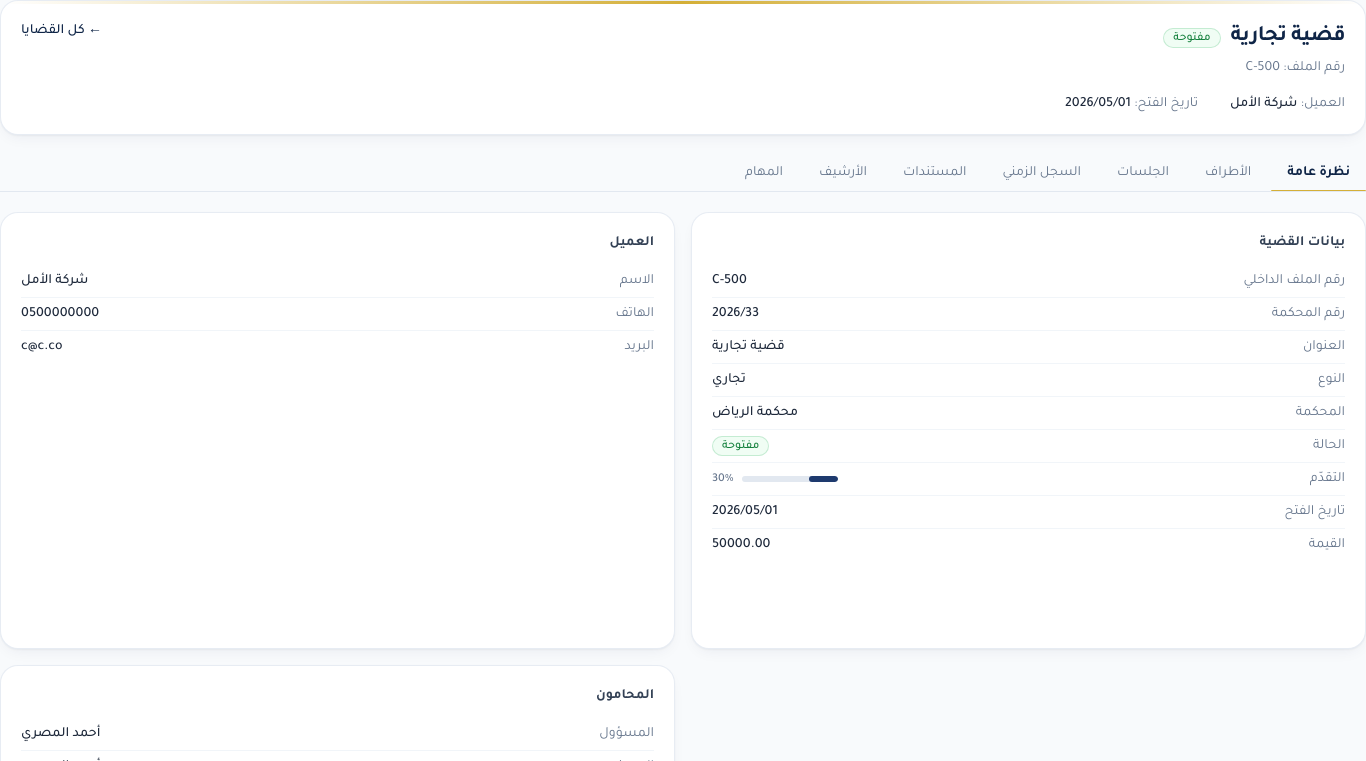
Scenario: CaseFilePage › يتنقّل بين التبويبات ويعرض بيانات كل مورد
Expected: the heading "قضية تجارية" is shown, [1231,21,1345,54]
Click the tab "الأطراف": x=1228, y=173 [1189,155,1267,191]
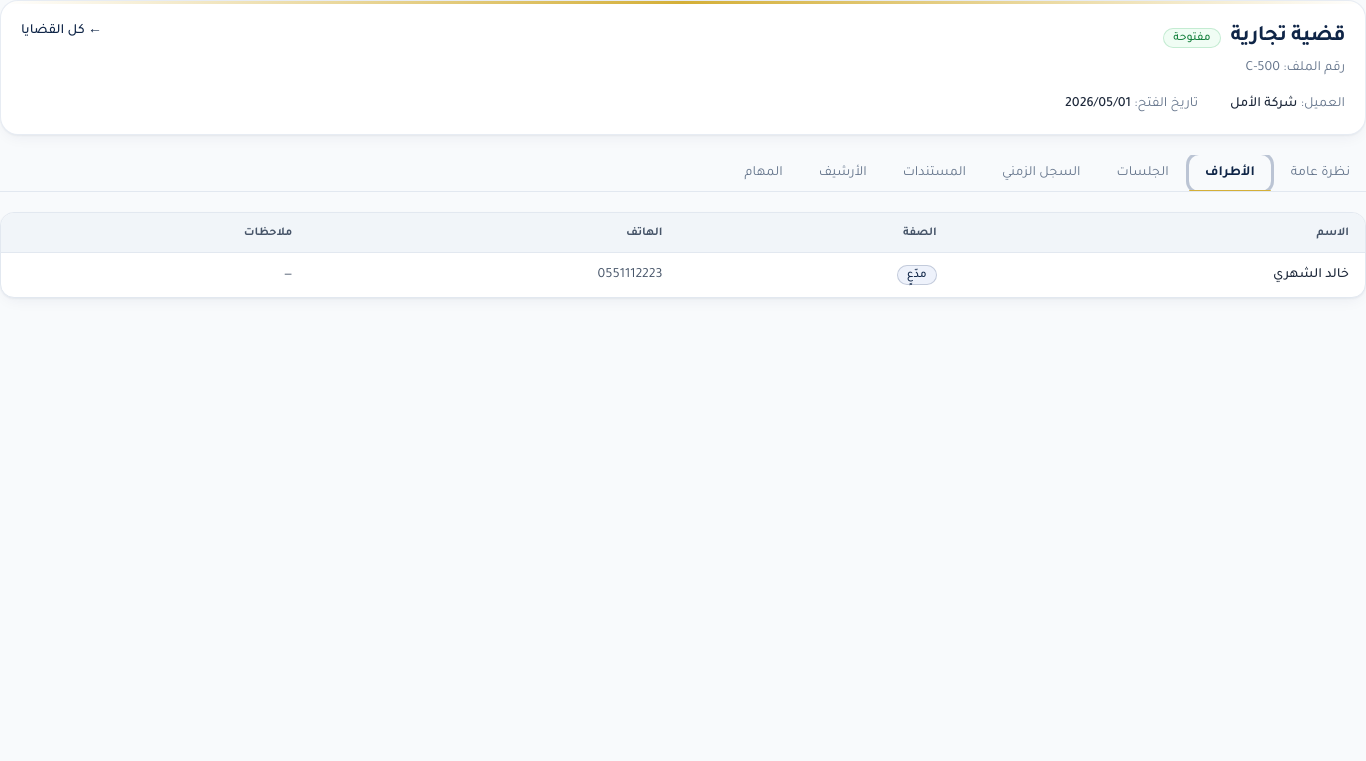
Result: the text "خالد الشهري" is shown at [953,253,1365,297]
Click the tab "الجلسات": x=1143, y=173 [1101,155,1185,191]
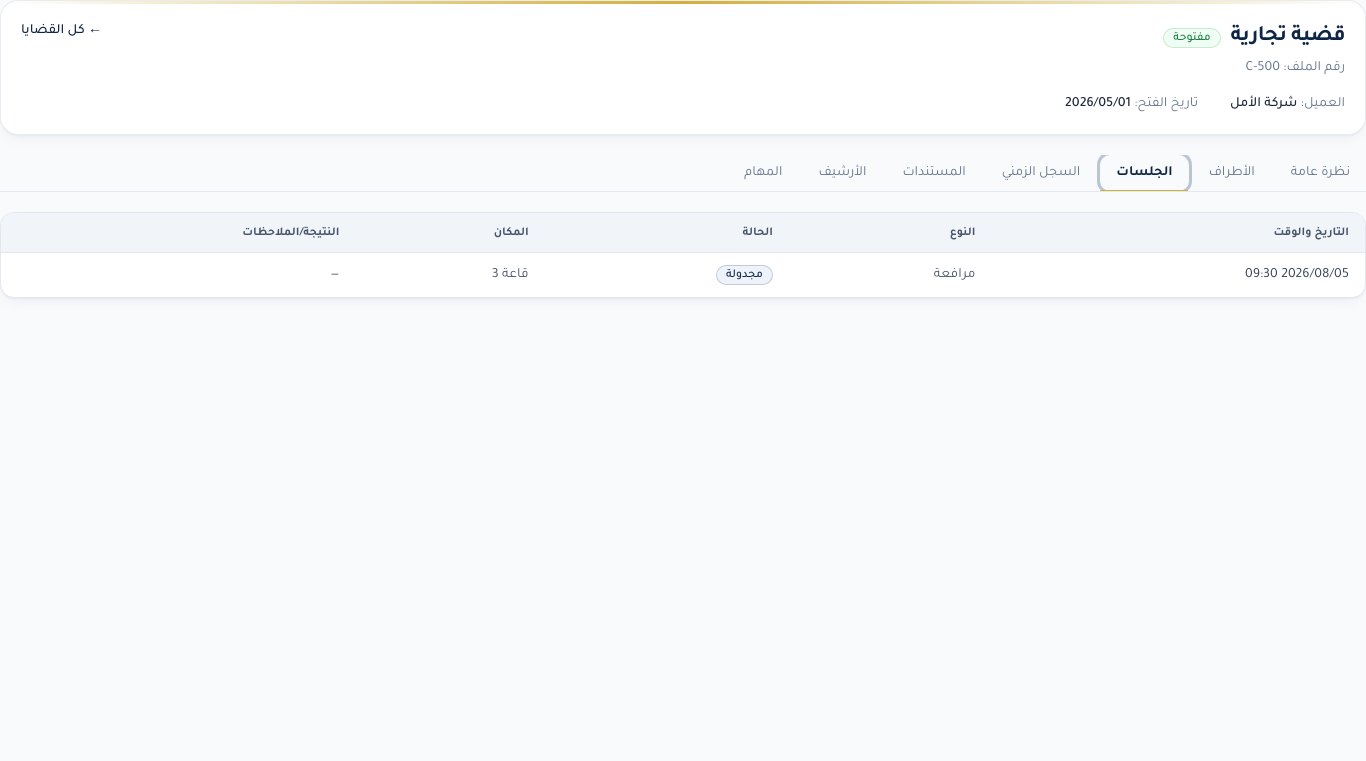
Result: the text "مرافعة" is shown at [789,253,991,297]
Click the tab "المهام": x=763, y=173 [728,155,798,191]
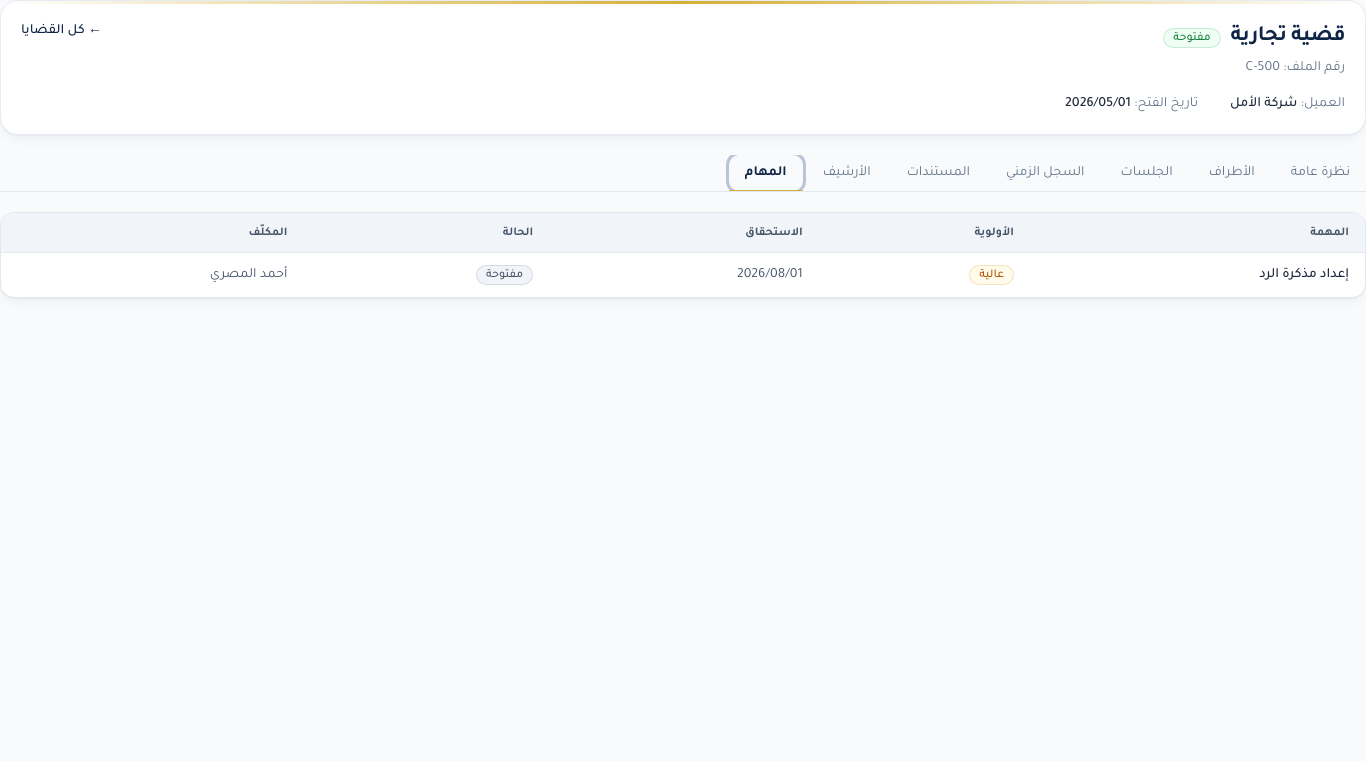
Result: the text "إعداد مذكرة الرد" is shown at [1030,253,1365,297]
